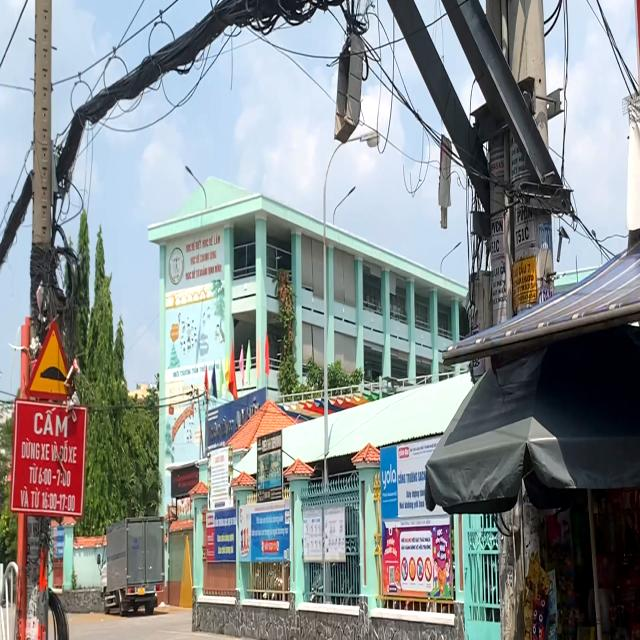W.221b: (24, 321, 82, 398)
